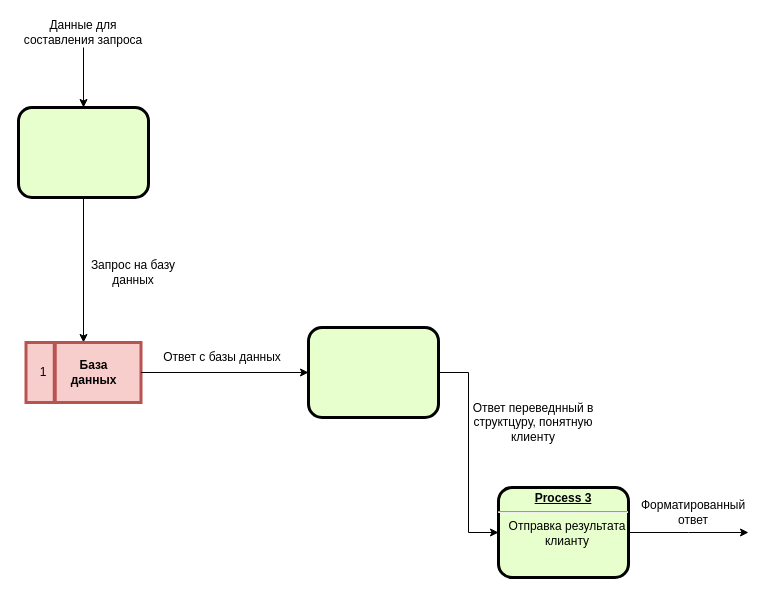
This 776x596 diagram has some shape labels left out. The shapes that lost their labels are listed below. From the top down, each one's centre as x and y in pixels, then its label:
At [83,152]: "Process 1 Создания запроса из объектов класса".
At [373,372]: "Process 2 Приведение ответа к нужному формату формату".
